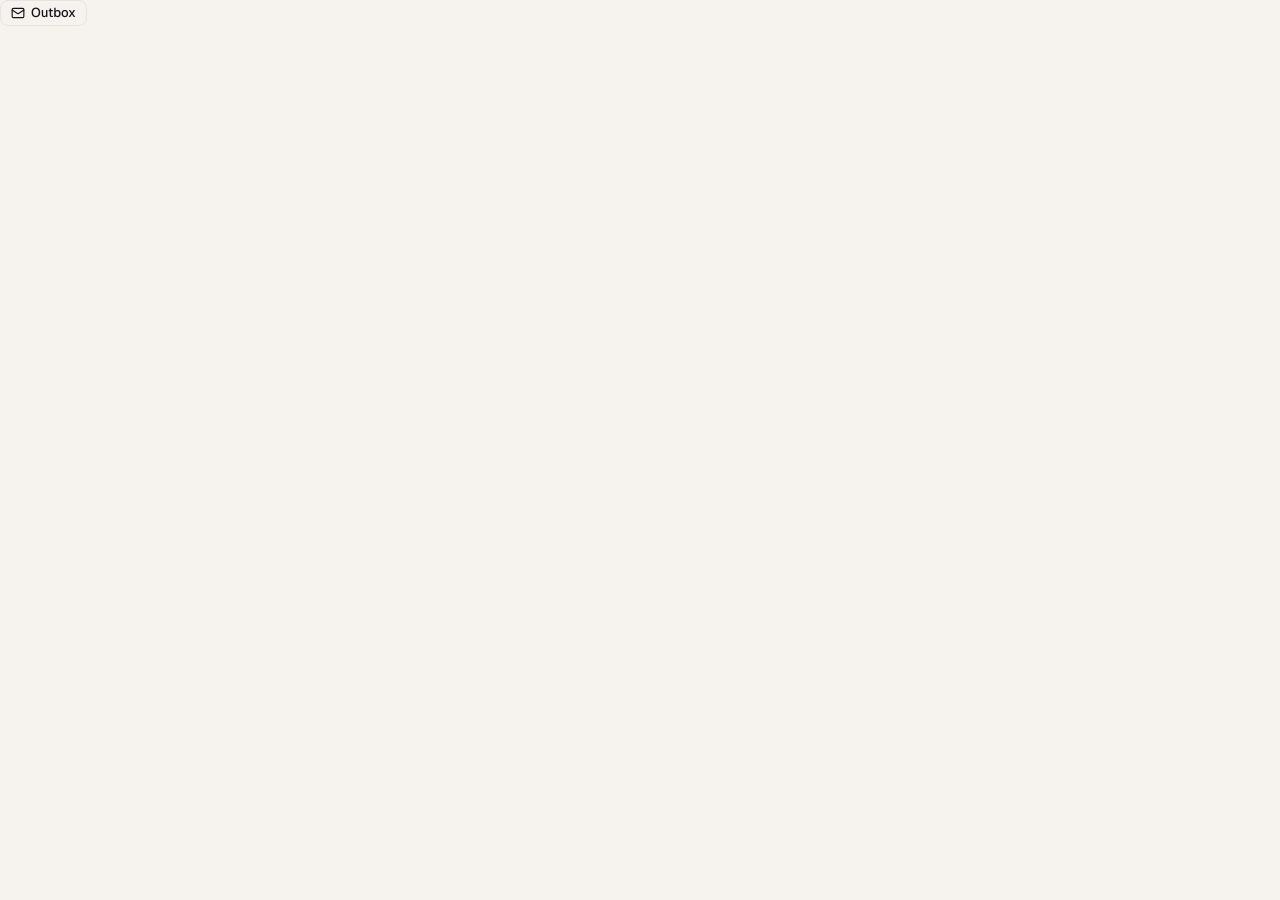
DemoOutbox › shows the empty state with no captured sends
Click the button "Outbox". click: (43, 13)
box: x1=0 y1=0 x2=87 y2=26
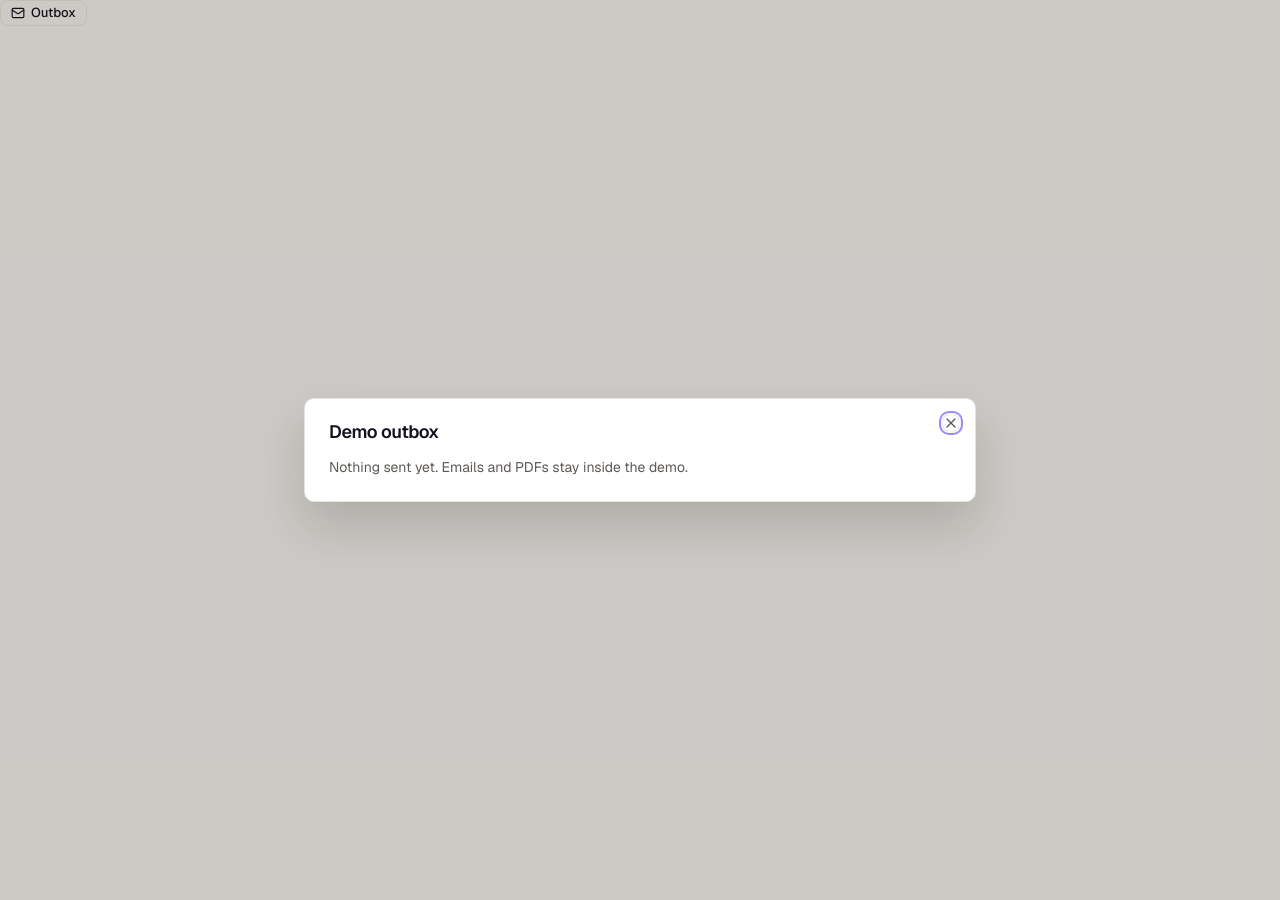
Now the text "Nothing sent yet. Emails and PDFs stay inside the demo." is shown, box x1=329 y1=458 x2=688 y2=476
